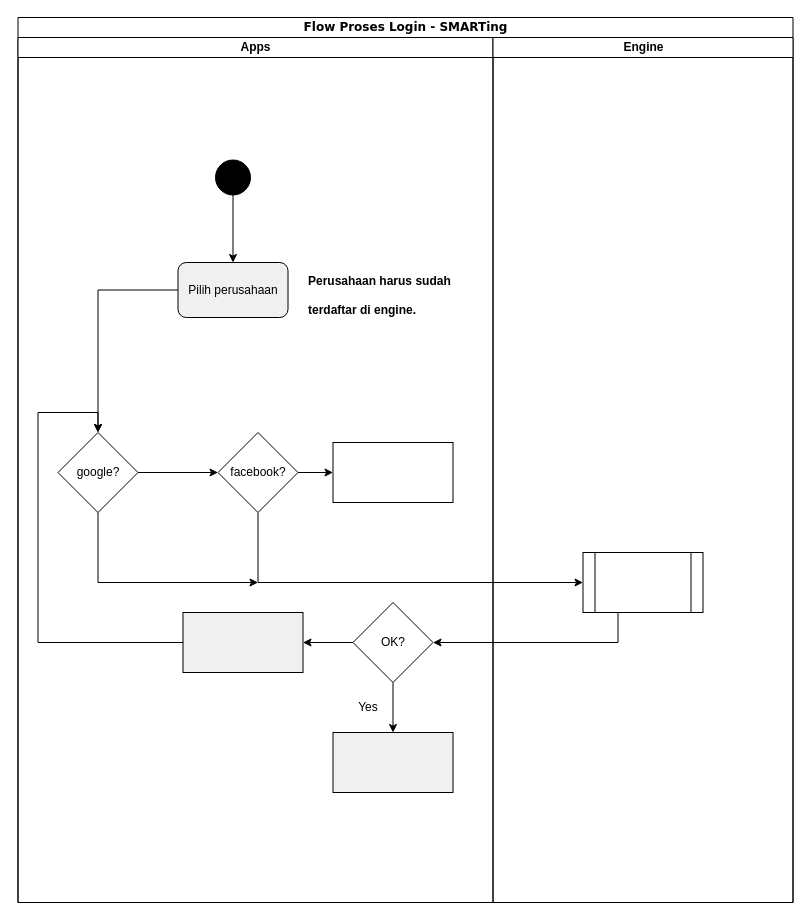
Image size: 810x920. Some labels were removed from this diagram. The centre of each missing label's shape, as x and y in pixels:
Error: (242,642)
Home Page: (392,762)
input email & password: (392,472)
Login: (642,582)
